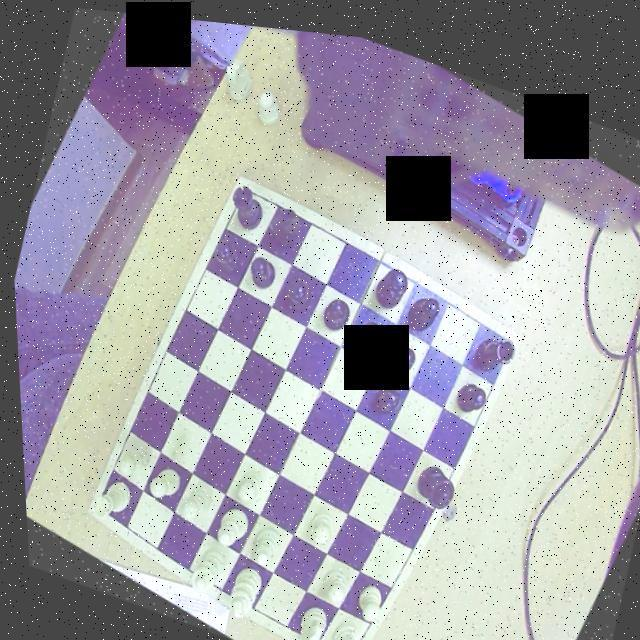chess-table-corners: (486, 314, 519, 351), (230, 167, 262, 202), (80, 484, 108, 520), (324, 632, 354, 640)
